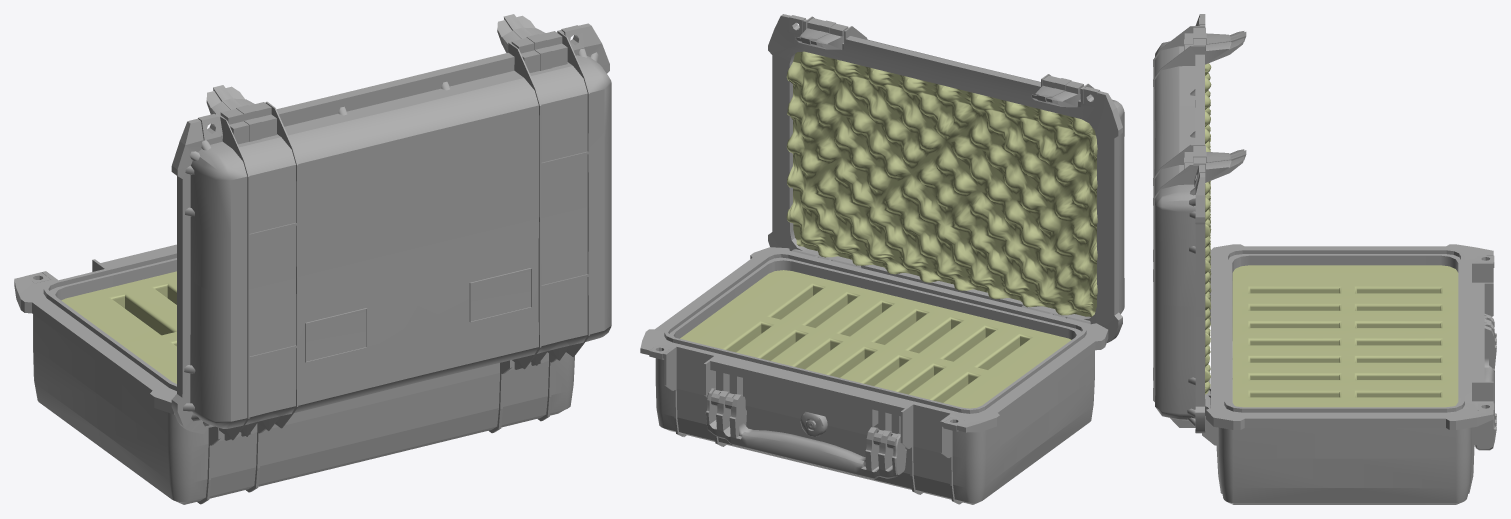
Rendered from pelicancase_harddrive_opened.fbx.
The picture shows the model from 3 angles, left to right: view 1: azimuth 30°, elevation 25°; view 2: azimuth 150°, elevation 25°; view 3: azimuth 270°, elevation 25°; orthographic projection. The views are drawn at different scales.
Parts seen in each view (by area): view 1: polySurface621; view 2: polySurface621; view 3: polySurface621.
Part boxes in pixels (box(x1,y1,x2,y2)): polySurface621: box(14, 14, 611, 504); polySurface621: box(640, 14, 1124, 504); polySurface621: box(1153, 14, 1496, 504).
Size of the model in its own units: 0.7652 by 0.6842 by 0.6297.
